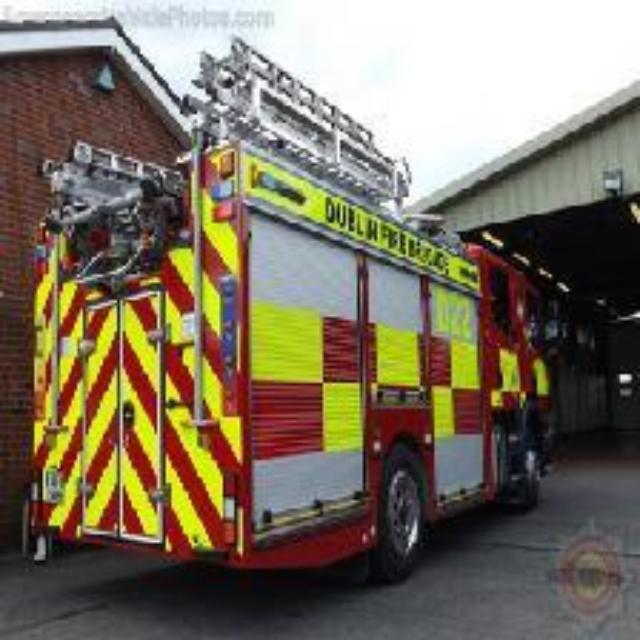emergency: (38, 152, 548, 582)
